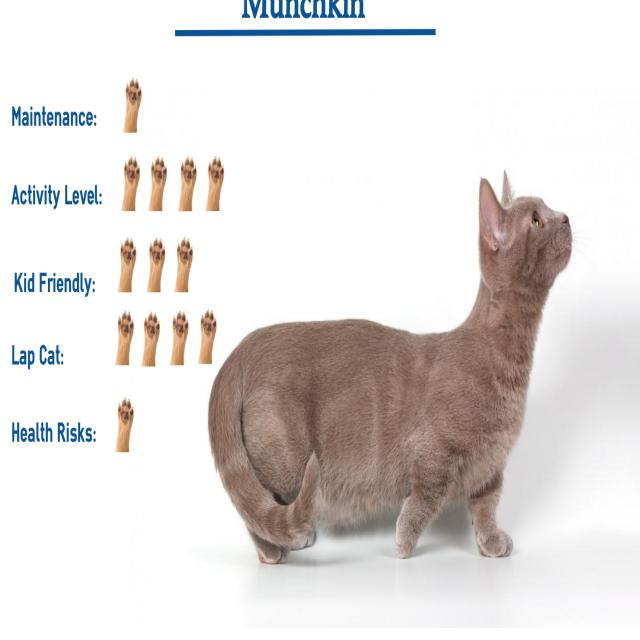Munchkin: (205, 164, 578, 574)
